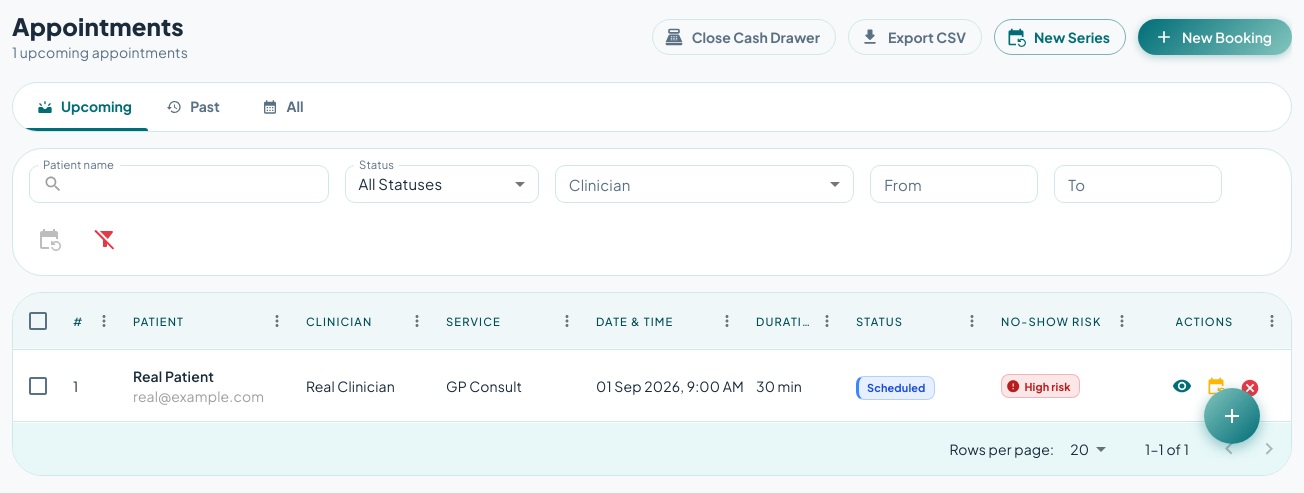
Test: AppointmentsListPage — no-show risk indicator (P1-17) › surfaces the real risk reasons in a tooltip, not a generic label
Hover over the text "High risk" at (1048, 386), box [1024, 380, 1071, 393]
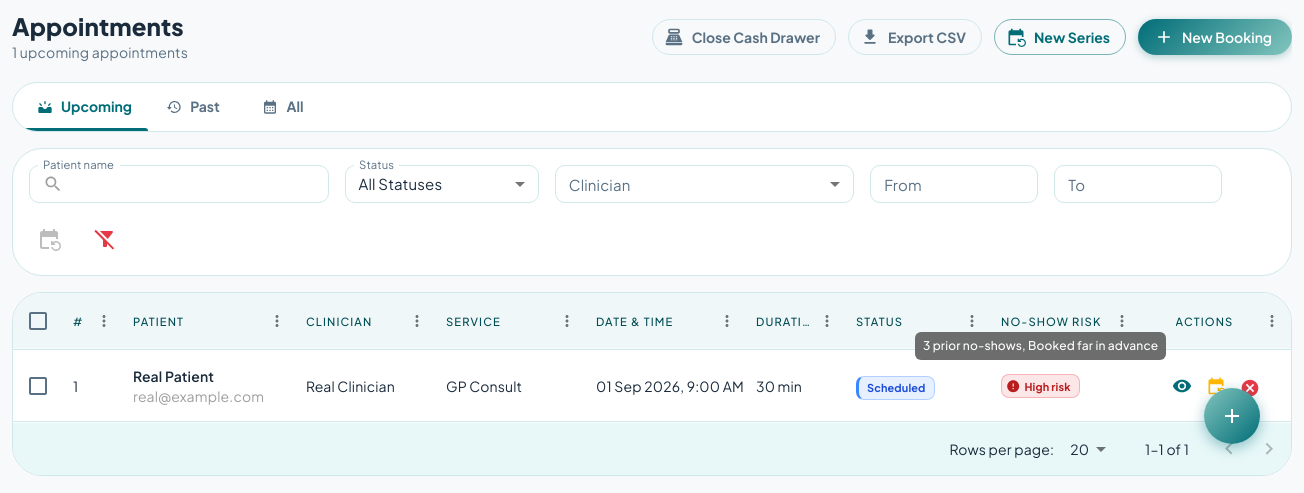
Expected: the text "3 prior no-shows, Booked far in advance" is shown, [915, 332, 1166, 360]
